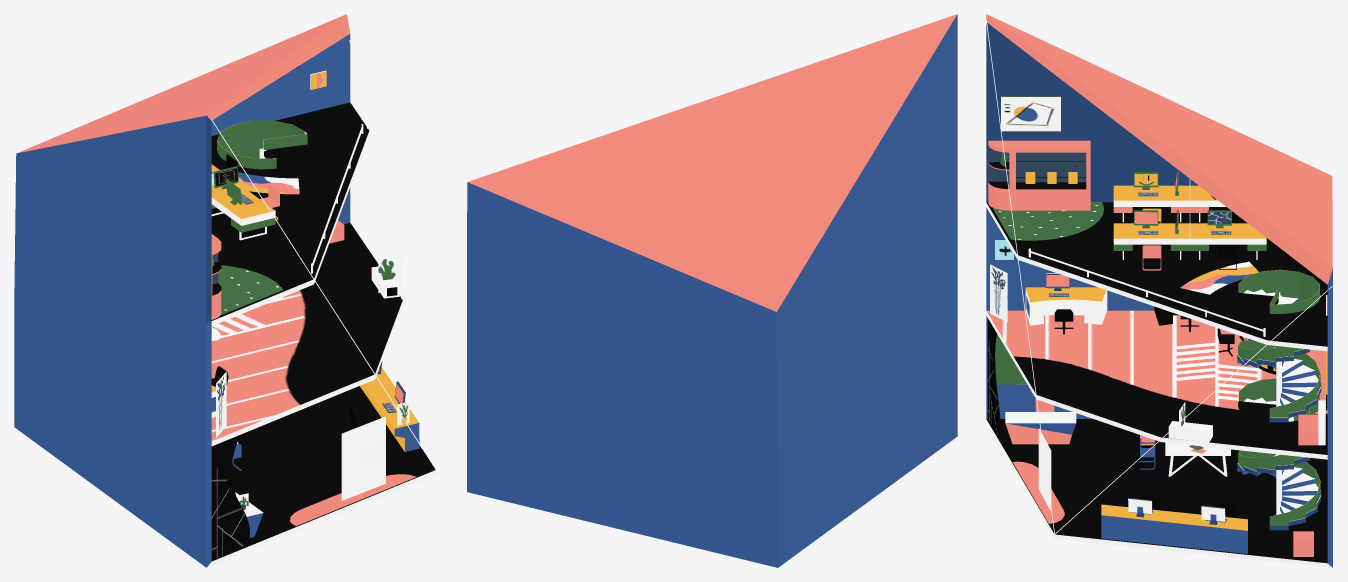
Rendered from 1109广告线模型.fbx.
The picture shows the model from 3 angles, left to right: view 1: azimuth 30°, elevation 25°; view 2: azimuth 150°, elevation 25°; view 3: azimuth 270°, elevation 25°; orthographic projection. The views are drawn at different scales.
Visible parts, largest first — view 1: building, floor, wall, Null_Instance_1, Cube_7_2, Disc, table_20_2, Extrude_3, Extrude_2_2, line, Disc_1, Cube_1 (+2 smaller); view 2: building; view 3: building, floor, Cube_1, Null_Instance_1, Null_1, Extrude_3, Disc, Cube_5, Cube, Cube_3_4, table_20, table_20_2 (+15 smaller).
Boxes of the visible parts, box(x1,y1,x2,y2) form: building: box(14, 14, 436, 567); floor: box(211, 102, 402, 446); wall: box(211, 435, 249, 560); Null_Instance_1: box(217, 120, 308, 169); Cube_7_2: box(341, 416, 385, 500); Disc: box(218, 265, 282, 315); table_20_2: box(211, 183, 275, 240); Extrude_3: box(360, 367, 419, 451); Extrude_2_2: box(290, 474, 416, 525); line: box(211, 40, 436, 470); Disc_1: box(238, 172, 299, 194); Cube_1: box(211, 234, 221, 319); building: box(467, 14, 957, 567); building: box(986, 14, 1332, 567); floor: box(986, 202, 1327, 459); Cube_1: box(988, 140, 1090, 210); Null_Instance_1: box(1237, 269, 1321, 422); Null_1: box(1237, 378, 1321, 530); Extrude_3: box(1101, 504, 1247, 553); Disc: box(992, 202, 1103, 240); Cube_5: box(1025, 287, 1107, 325); Cube: box(1001, 96, 1060, 131); Cube_3_4: box(1005, 412, 1076, 444); table_20: box(1113, 185, 1190, 222); table_20_2: box(1113, 223, 1189, 259).
Bounding box in the file's own units: 1019 × 1317 × 1019.
